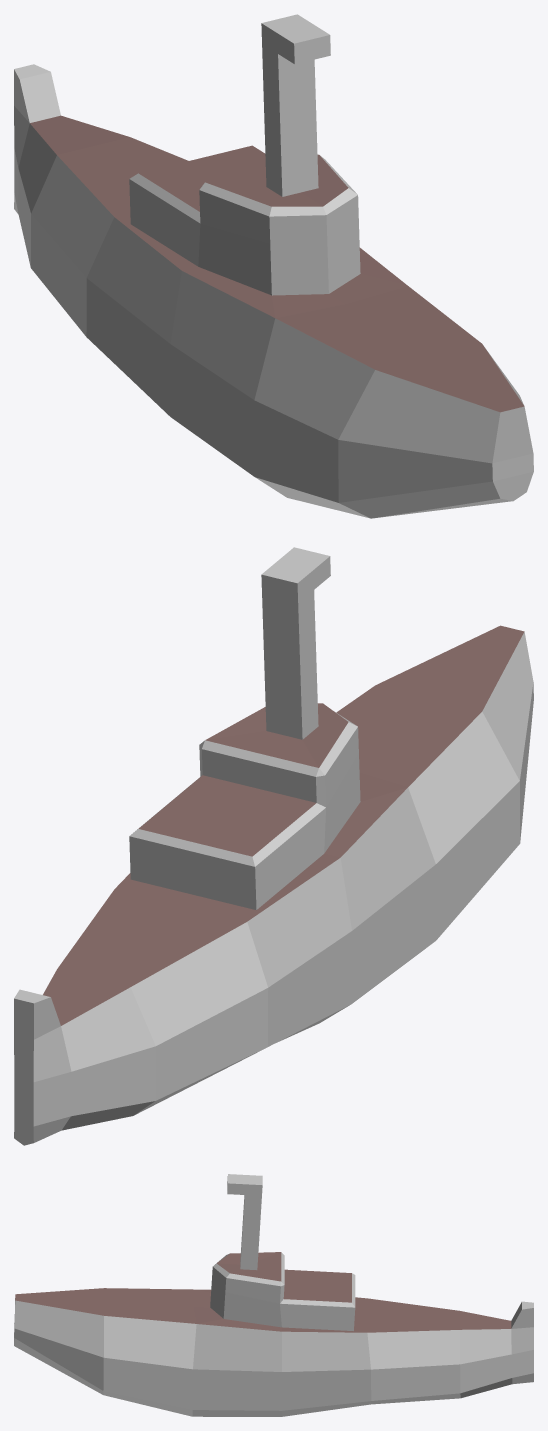
The model's file is submarine_size_1.fbx.
3 renders of one model, top to bottom at view 1: azimuth 30°, elevation 25°; view 2: azimuth 150°, elevation 25°; view 3: azimuth 270°, elevation 25°, orthographic. The views are drawn at different scales.
Visible parts, largest first — view 1: submarine_1; view 2: submarine_1; view 3: submarine_1.
Part boxes in pixels (<box>): submarine_1: <box>14,14,533,518</box>; submarine_1: <box>14,547,533,1145</box>; submarine_1: <box>14,1174,533,1416</box>.
Size of the model in its own units: 41.53 by 93.68 by 194.
